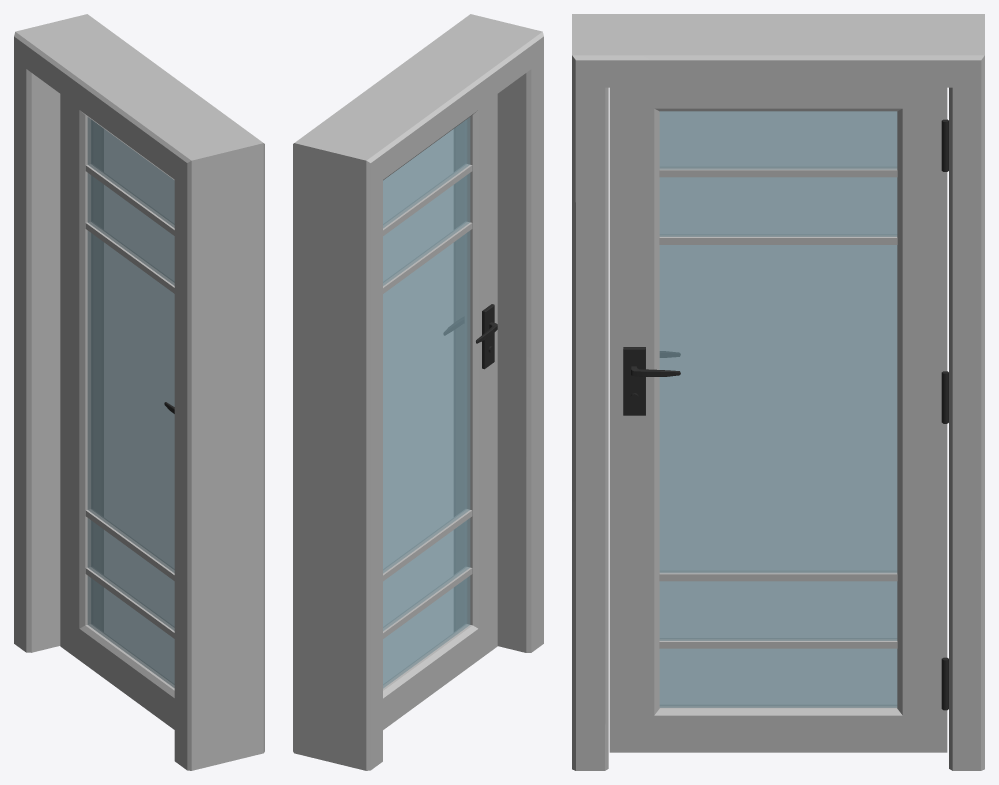
File: Door05_open.FBX
3 renders of one model, left to right at view 1: azimuth 30°, elevation 25°; view 2: azimuth 150°, elevation 25°; view 3: azimuth 270°, elevation 25°, orthographic. The views are drawn at different scales.
Visible parts, largest first — view 1: Door05_open; view 2: Door05_open; view 3: Door05_open.
Boxes of the visible parts, x1=… form: Door05_open: x1=14, y1=14, x2=264, y2=770; Door05_open: x1=293, y1=14, x2=543, y2=770; Door05_open: x1=572, y1=14, x2=984, y2=770.
Size of the model in its own units: 28 by 110 by 210.
